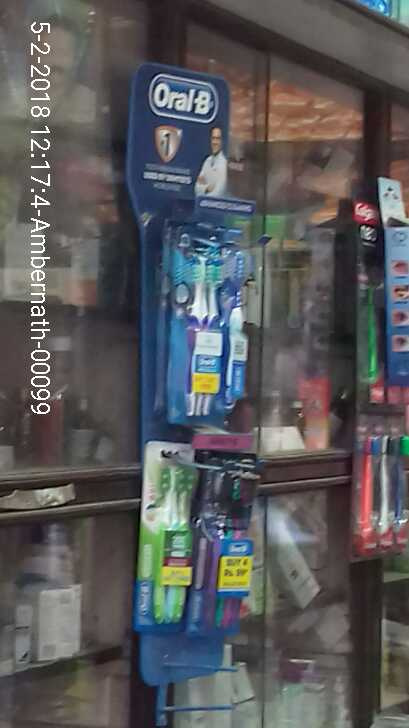oralb: (164, 241, 248, 412), (197, 447, 261, 634), (131, 450, 193, 618)
